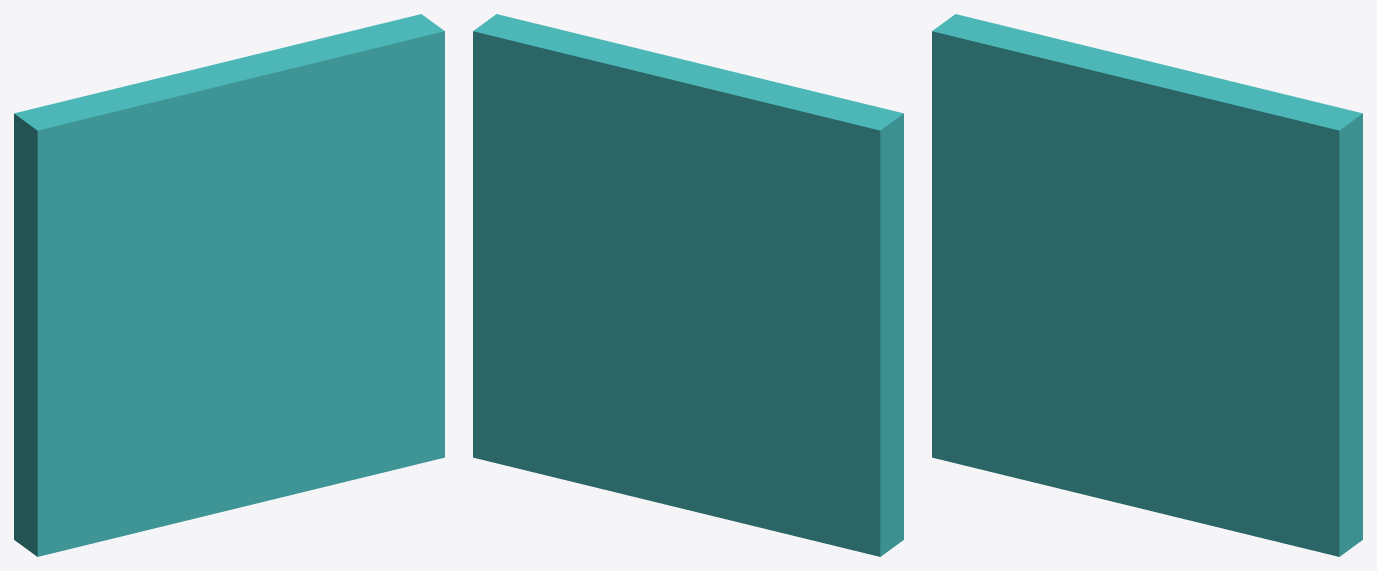
File: flatPlate.obj
3 renders of one model, left to right at view 1: azimuth 30°, elevation 25°; view 2: azimuth 150°, elevation 25°; view 3: azimuth 330°, elevation 25°, orthographic.
Parts seen in each view (by area): view 1: Cube; view 2: Cube; view 3: Cube.
Boxes of the visible parts, x1=… form: Cube: x1=14, y1=14, x2=444, y2=556; Cube: x1=473, y1=14, x2=903, y2=556; Cube: x1=932, y1=14, x2=1362, y2=556.
Bounding box in the file's own units: 1 × 1 × 0.1.
